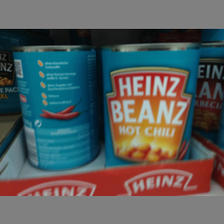beans: (102, 43, 199, 164), (13, 45, 101, 171)
